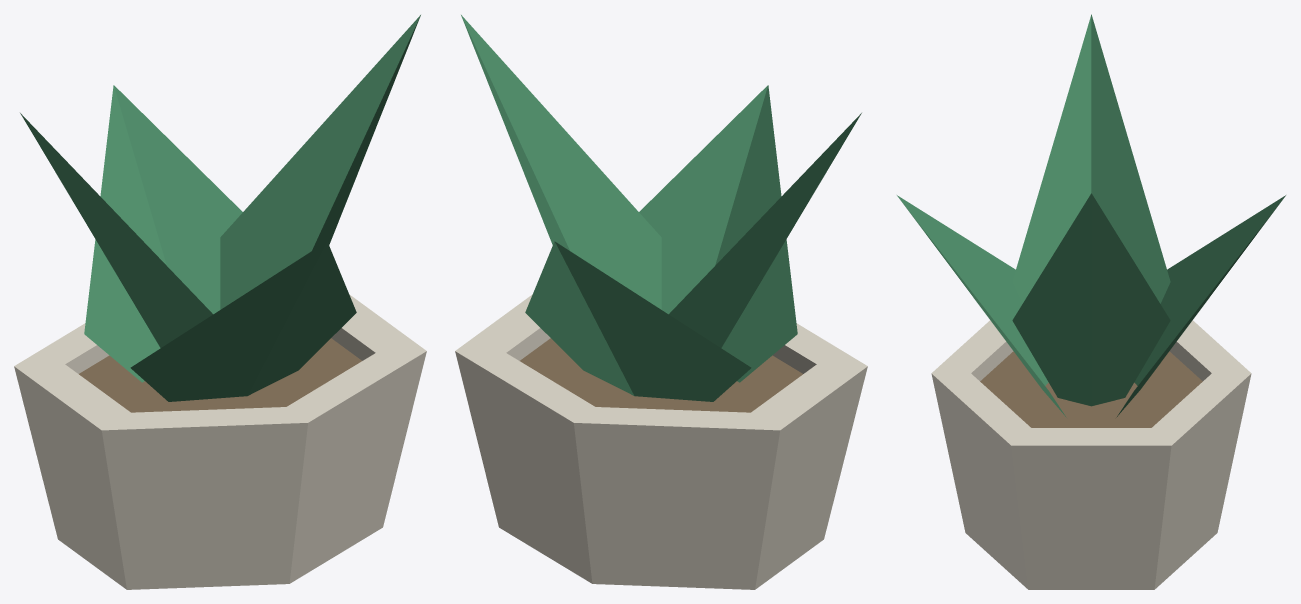
Rendered from Planter.glb.
3 renders of one model, left to right at view 1: azimuth 30°, elevation 25°; view 2: azimuth 150°, elevation 25°; view 3: azimuth 270°, elevation 25°, orthographic. The views are drawn at different scales.
Visible parts, largest first — view 1: pottedPlant(Clone), plant; view 2: pottedPlant(Clone), plant; view 3: pottedPlant(Clone), plant.
Boxes of the visible parts, x1=… form: pottedPlant(Clone): x1=14, y1=294, x2=426, y2=589; plant: x1=20, y1=15, x2=420, y2=401; pottedPlant(Clone): x1=455, y1=294, x2=867, y2=589; plant: x1=461, y1=15, x2=861, y2=401; pottedPlant(Clone): x1=931, y1=320, x2=1251, y2=589; plant: x1=897, y1=14, x2=1285, y2=417.
Size of the model in its own units: 0.76 by 0.85 by 0.7.
